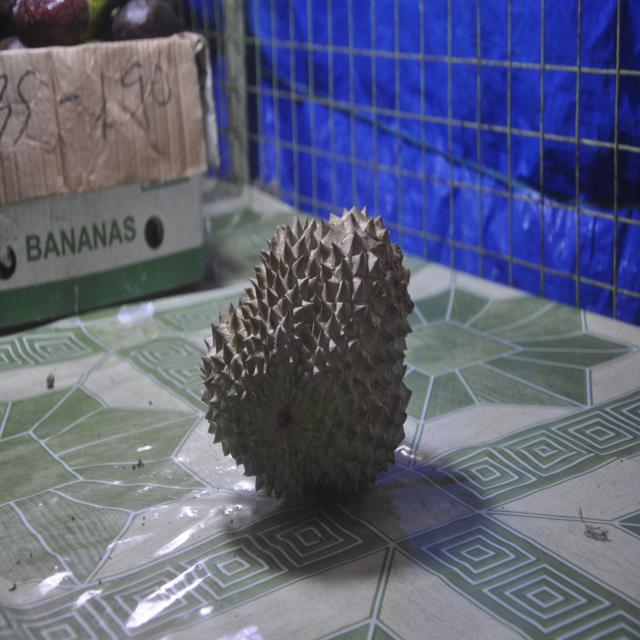mature: (202, 207, 414, 498)
